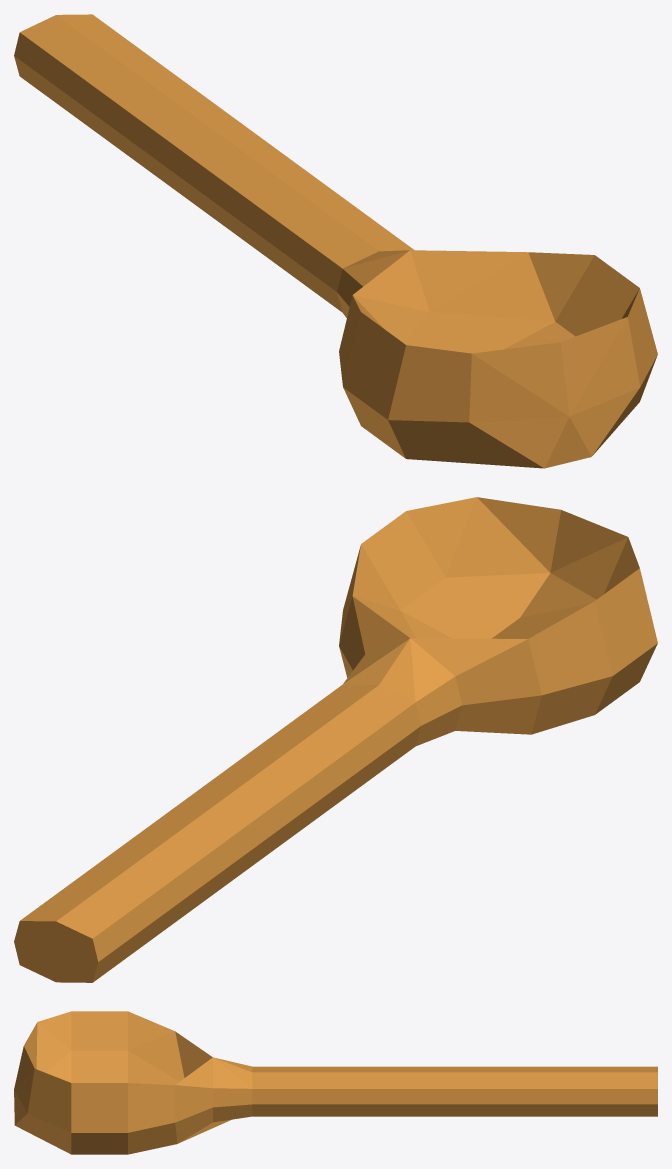
File: spoon.fbx
The picture shows the model from 3 angles, top to bottom: view 1: azimuth 30°, elevation 25°; view 2: azimuth 150°, elevation 25°; view 3: azimuth 270°, elevation 25°; orthographic projection. The views are drawn at different scales.
Visible parts, largest first — view 1: mesh_1613796330; view 2: mesh_1613796330; view 3: mesh_1613796330.
Boxes of the visible parts, x1=… form: mesh_1613796330: x1=14, y1=14, x2=657, y2=468; mesh_1613796330: x1=14, y1=497, x2=657, y2=982; mesh_1613796330: x1=14, y1=1011, x2=657, y2=1154.
Size of the model in its own units: 20.75 by 9.18 by 68.24.
